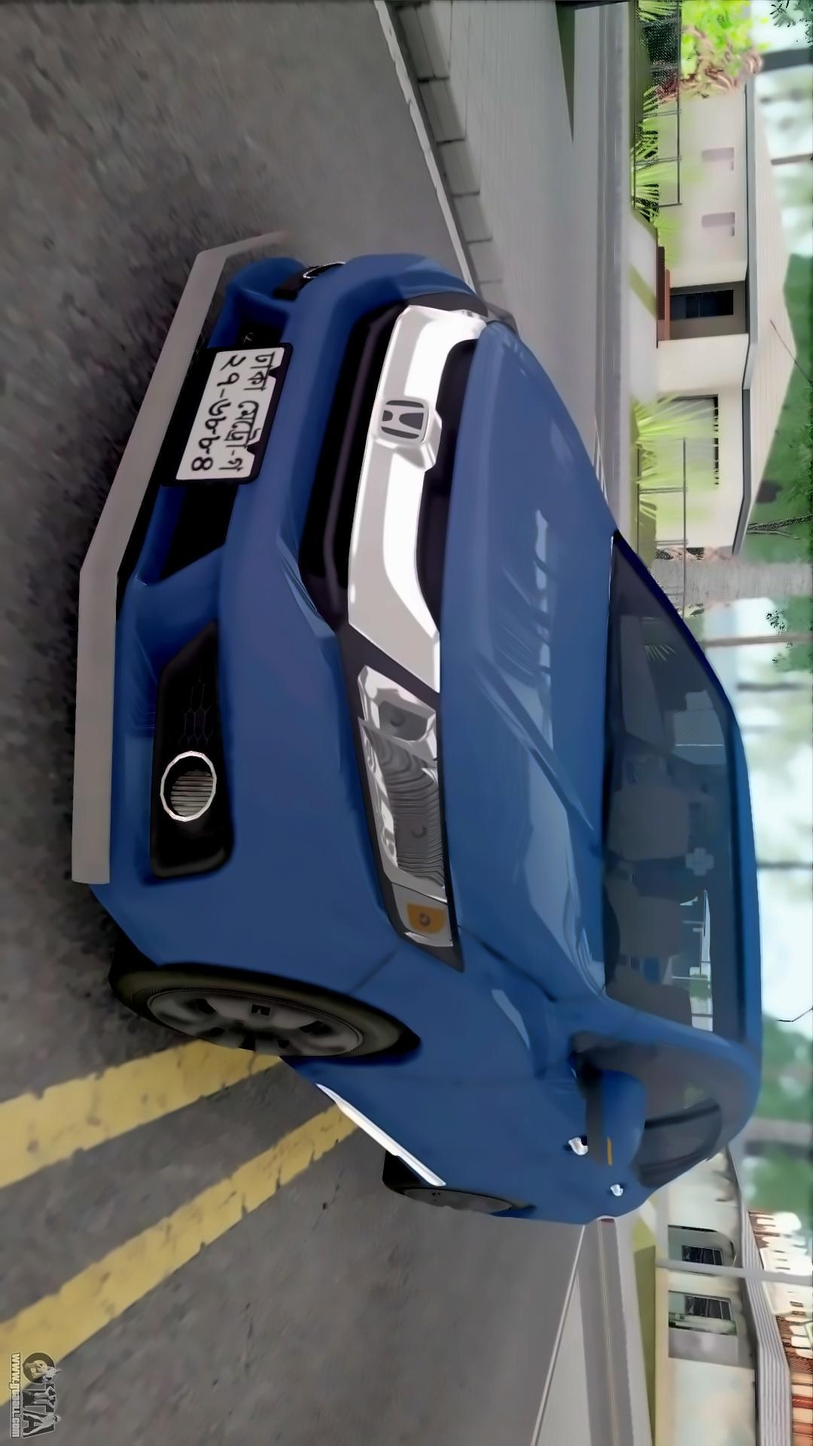Car hood: (429, 314, 615, 1003)
Fender - -F-L-: (329, 925, 643, 1087)
Front bumper: (55, 214, 376, 997)
Headlight - -L-: (345, 640, 469, 962)
Headlight - -R-: (399, 283, 527, 348)
Passenger-s door - -F-L-: (337, 1080, 757, 1163)
Passenger-s door - -R-L-: (429, 1133, 759, 1220)
Side bumper - -L-: (281, 1047, 458, 1199)
Side mirror - -L-: (565, 1047, 665, 1186)
